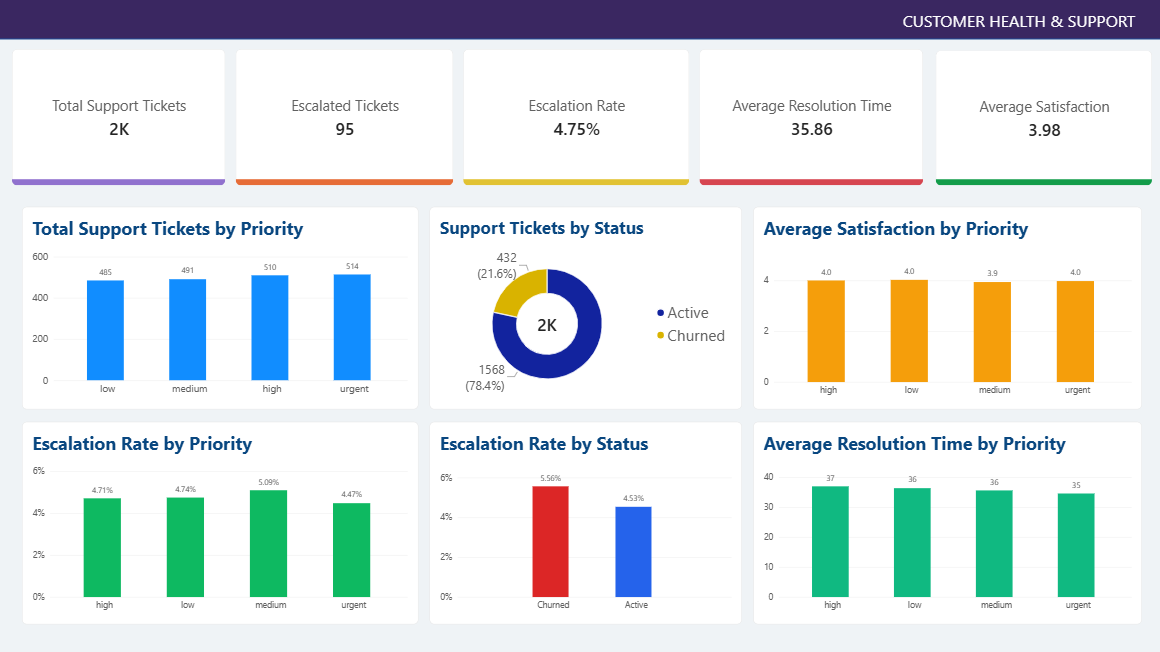

What the dashboard file says about the page in this screenshot:
{"tool":"powerbi","page":{"name":"Customer Health & Support","canvas":[1920,1080],"ordinal":3},"visuals":[{"type":"cardVisual","fields":{"Data":["customer_analytics.Total Support Tickets"]},"box":[24.7,84.4,352,224.4],"z":0},{"type":"cardVisual","fields":{"Data":["customer_analytics.Escalation Rate"]},"box":[767.8,84.4,372.6,224.4],"z":1},{"type":"cardVisual","fields":{"Data":["customer_analytics.Average Resolution Time"]},"box":[1156.8,84.4,368.4,224.4],"z":2},{"type":"cardVisual","fields":{"Data":["customer_analytics.Average Satisfaction"]},"box":[1545.8,86.4,356.1,222.3],"z":3},{"type":"clusteredColumnChart","title":"Total Support Tickets by Priority","fields":{"Y":["customer_analytics.Total Support Tickets"],"Category":["support_tickets_cleaned.priority"]},"box":[41.2,343.7,652.5,333.4],"z":4},{"type":"clusteredColumnChart","title":"Escalation Rate by Priority","fields":{"Category":["support_tickets_cleaned.priority"],"Y":["customer_analytics.Escalation Rate"]},"box":[41.2,697.8,652.5,333.4],"z":5},{"type":"clusteredColumnChart","title":"Average Resolution Time by Priority","fields":{"Category":["support_tickets_cleaned.priority"],"Y":["customer_analytics.Average Resolution Time"]},"box":[1245.3,697.8,640.1,333.4],"z":6},{"type":"clusteredColumnChart","title":"Average Satisfaction by Priority","fields":{"Category":["support_tickets_cleaned.priority"],"Y":["customer_analytics.Average Satisfaction"]},"box":[1245.3,343.7,640.1,333.4],"z":7},{"type":"donutChart","title":" Support Tickets by Status","fields":{"Category":["customer_analytics.customer_status"],"Y":["customer_analytics.Total Support Tickets"]},"box":[712.2,343.7,514.6,333.4],"z":8},{"type":"shape","box":[0,0,1920.4,68],"z":9},{"type":"textbox","box":[0,0,1920.4,67.9],"z":10},{"type":"cardVisual","fields":{"Data":["Sum(customer_analytics.escalated_tickets)"]},"box":[393.1,84.4,358.1,224.4],"z":11},{"type":"clusteredColumnChart","title":"Escalation Rate by Status","fields":{"Category":["customer_analytics.customer_status"],"Y":["customer_analytics.Escalation Rate"]},"box":[712.2,697.8,514.6,333.4],"z":12}]}

Visuals, with their boxes in screenshot pixels (x1, y1, x2, y2), scaled from the page's 1920x1080 canvas onto the 1160x652 screenshot:
cardVisual - customer_analytics.Total Support Tickets: rect(15, 51, 228, 186)
cardVisual - customer_analytics.Escalation Rate: rect(464, 51, 689, 186)
cardVisual - customer_analytics.Average Resolution Time: rect(699, 51, 921, 186)
cardVisual - customer_analytics.Average Satisfaction: rect(934, 52, 1149, 186)
"Total Support Tickets by Priority" clusteredColumnChart: rect(25, 207, 419, 409)
"Escalation Rate by Priority" clusteredColumnChart: rect(25, 421, 419, 623)
"Average Resolution Time by Priority" clusteredColumnChart: rect(752, 421, 1139, 623)
"Average Satisfaction by Priority" clusteredColumnChart: rect(752, 207, 1139, 409)
" Support Tickets by Status" donutChart: rect(430, 207, 741, 409)
shape: rect(0, 0, 1159, 41)
textbox: rect(0, 0, 1159, 41)
cardVisual - Sum(customer_analytics.escalated_tickets): rect(237, 51, 454, 186)
"Escalation Rate by Status" clusteredColumnChart: rect(430, 421, 741, 623)
